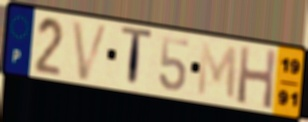2: (32, 16, 67, 79)
5: (158, 35, 191, 93)
H: (235, 44, 278, 113)
M: (196, 40, 239, 104)
T: (119, 25, 154, 92)
V: (70, 19, 112, 83)
